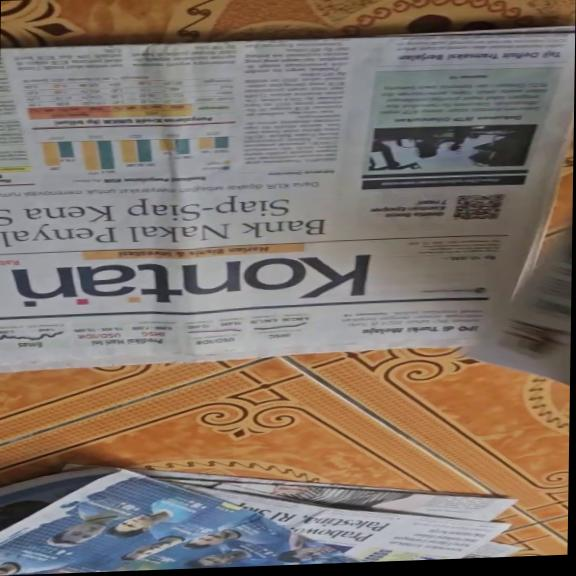Kertas: (5, 28, 511, 362)
